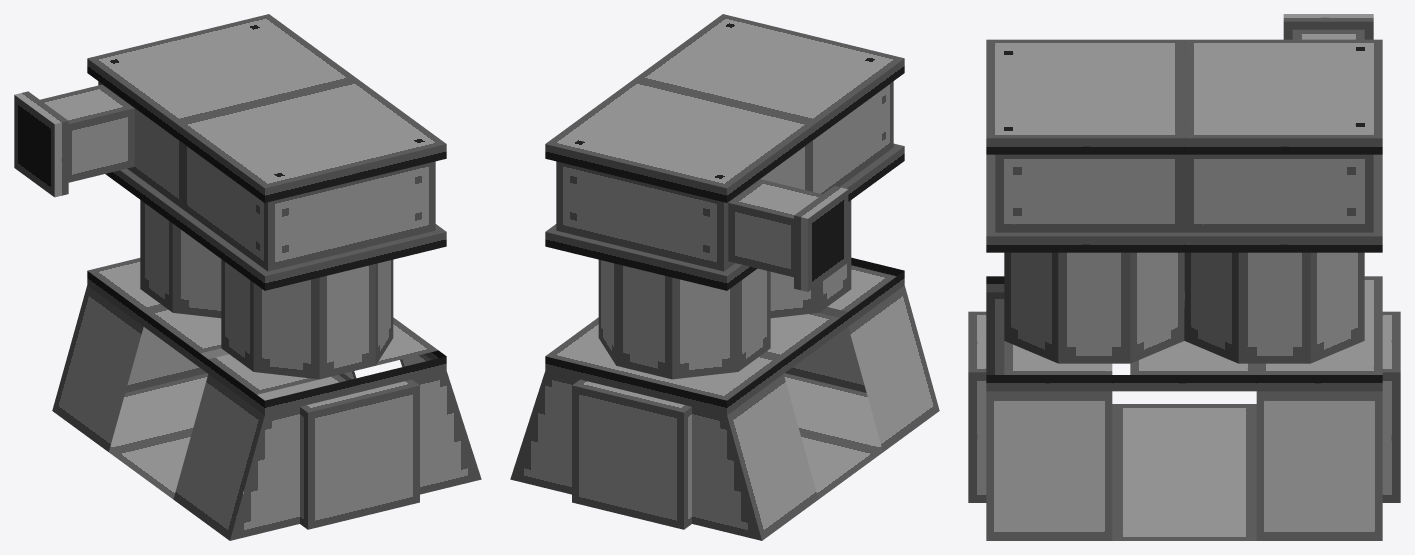
The model's file is large_compressor.obj.
3 renders of one model, left to right at view 1: azimuth 30°, elevation 25°; view 2: azimuth 150°, elevation 25°; view 3: azimuth 270°, elevation 25°, orthographic. The views are drawn at different scales.
Visible parts, largest first — view 1: cube, cylinder; view 2: cube, cylinder; view 3: cube, cylinder.
Boxes of the visible parts, <box> form: cube: <box>14,14,481,540</box>; cylinder: <box>140,200,393,379</box>; cube: <box>510,14,939,540</box>; cylinder: <box>598,200,851,379</box>; cube: <box>968,14,1400,540</box>; cylinder: <box>1004,252,1364,363</box>.
Bounding box in the file's own units: 2.62 × 2.94 × 3.
